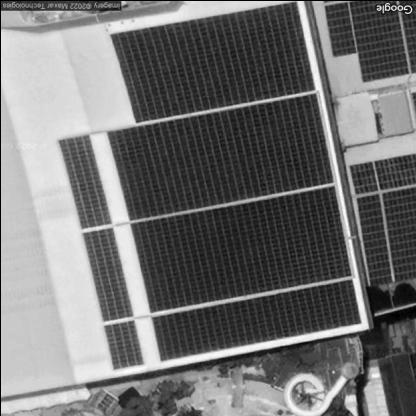solar-pv-panel: (105, 92, 332, 219), (127, 185, 352, 312), (108, 1, 314, 121), (150, 277, 360, 360), (355, 186, 416, 285), (326, 15, 416, 80), (56, 133, 110, 227), (81, 227, 133, 321), (348, 153, 416, 193), (101, 320, 142, 370)
